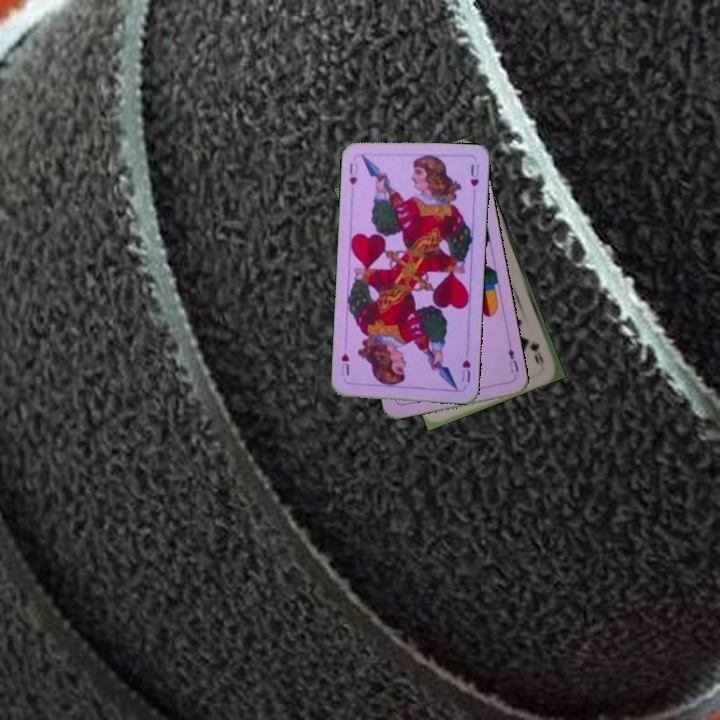EU: (504, 344, 521, 381)
G9: (527, 339, 546, 366)
HU: (457, 356, 473, 385), (345, 159, 360, 187)
